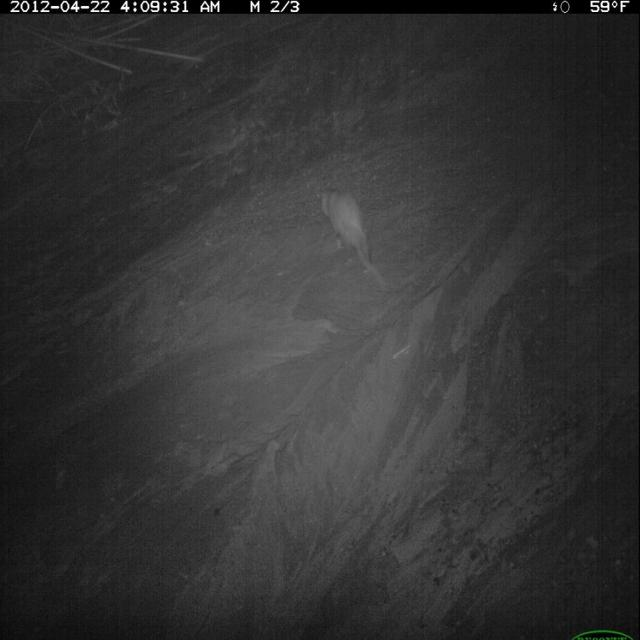opossum: (318, 184, 396, 305)
